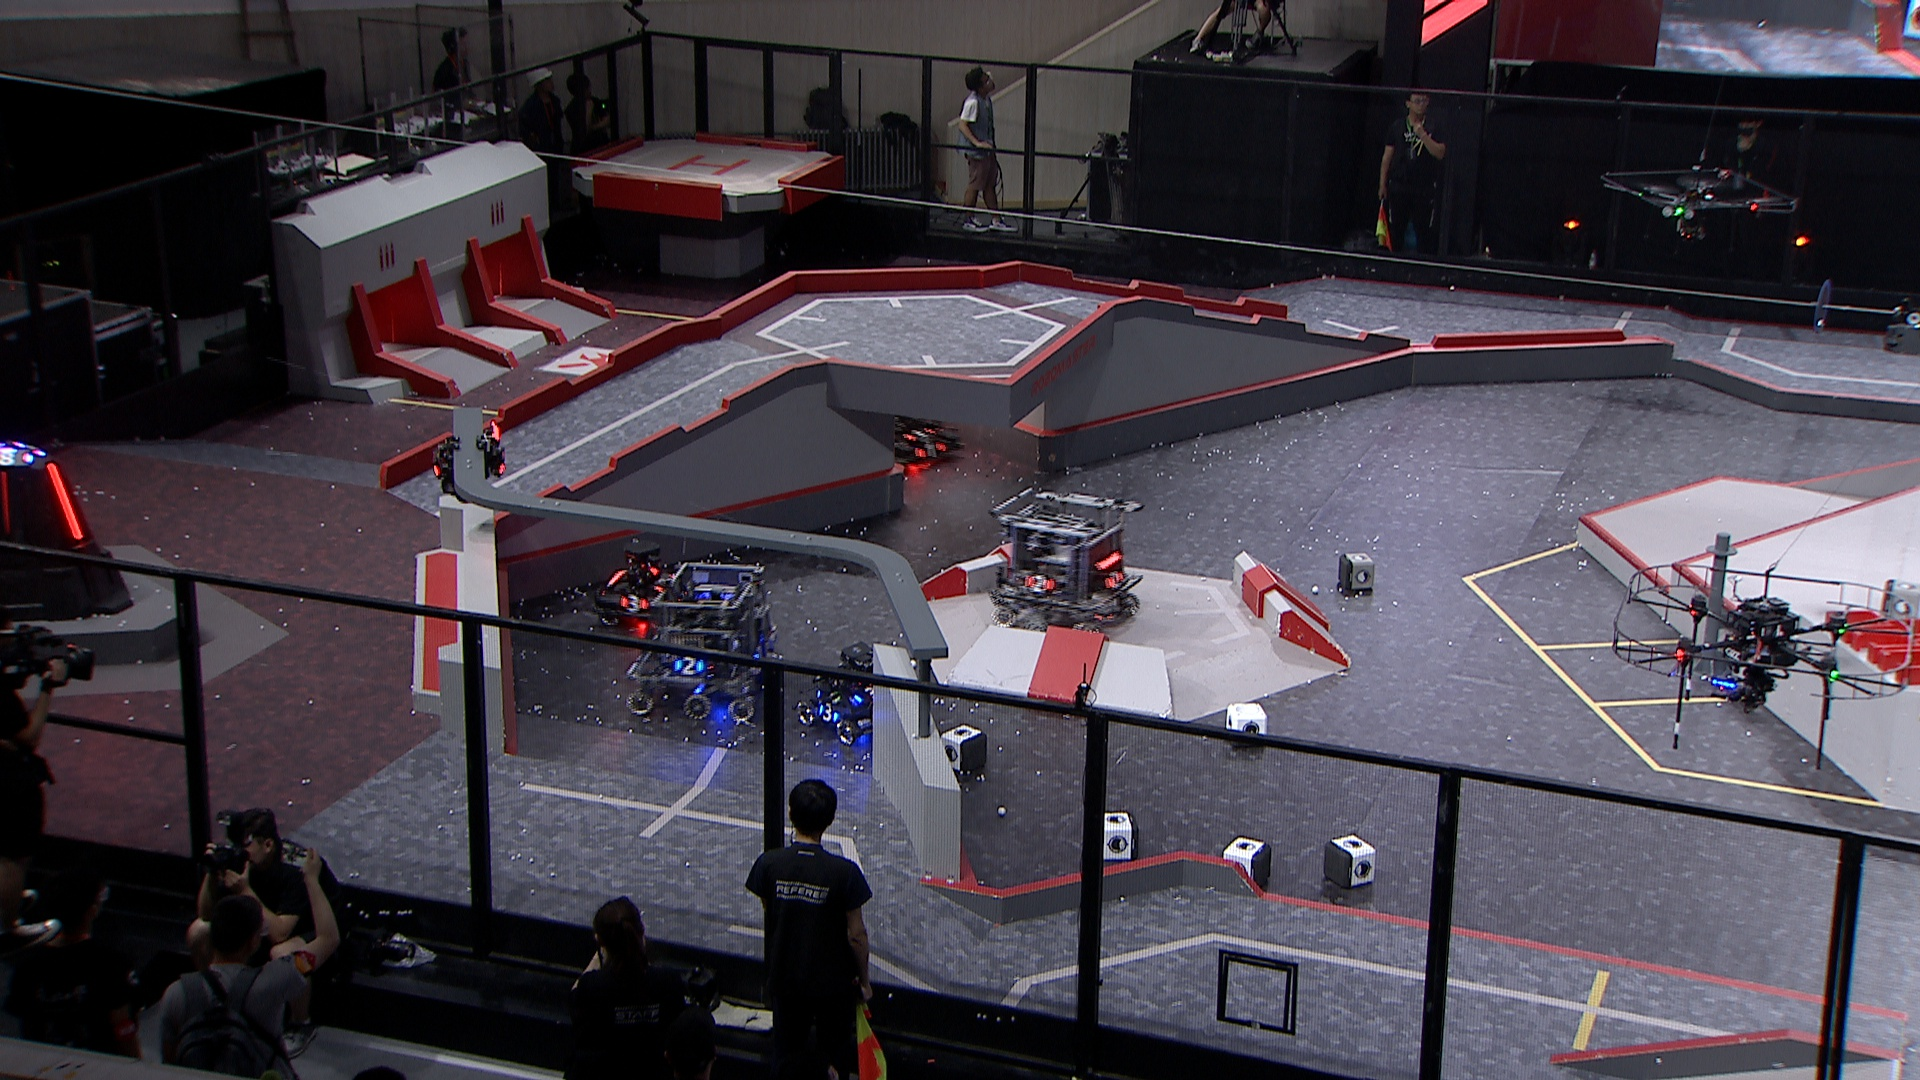armor: (46, 460, 86, 542), (673, 657, 707, 676), (852, 684, 884, 702), (618, 593, 647, 612), (913, 443, 948, 458), (1025, 574, 1048, 593), (816, 702, 836, 723), (906, 427, 932, 440), (752, 638, 766, 661), (655, 576, 673, 593), (1106, 570, 1125, 585)
car: (621, 556, 779, 723), (986, 485, 1141, 642), (794, 640, 901, 746), (593, 537, 684, 628), (880, 389, 969, 475)
watcher: (429, 418, 513, 508)
